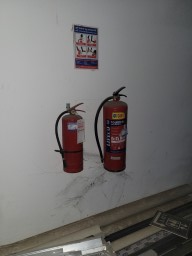fire_extinguisher: (65, 85, 129, 121), (77, 141, 130, 183)
